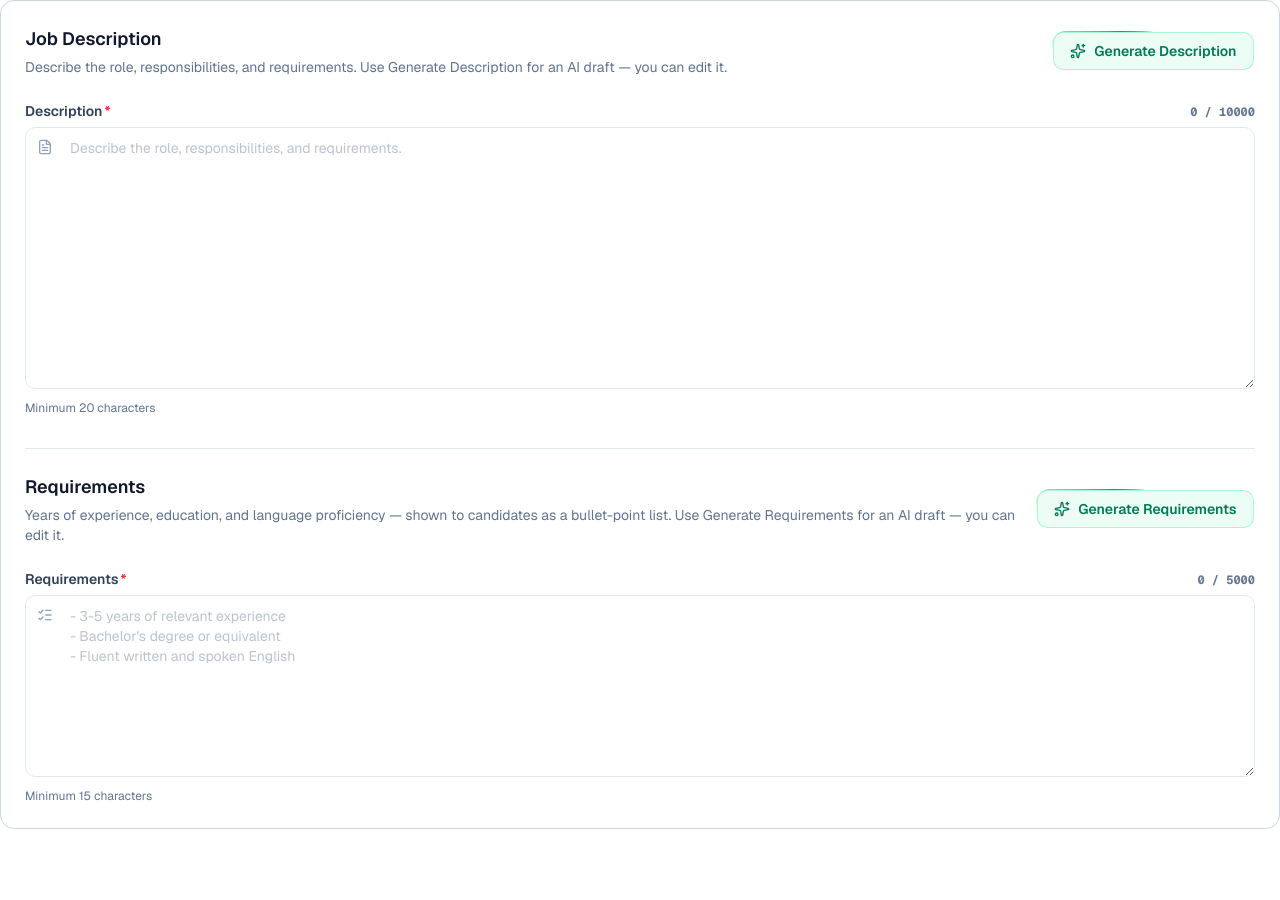
Scenario: Step5Description › switches only the description button to Regenerate after generating a description
Click the button "Generate Description" at {"x": 1153, "y": 51}, box [1052,30,1255,72]
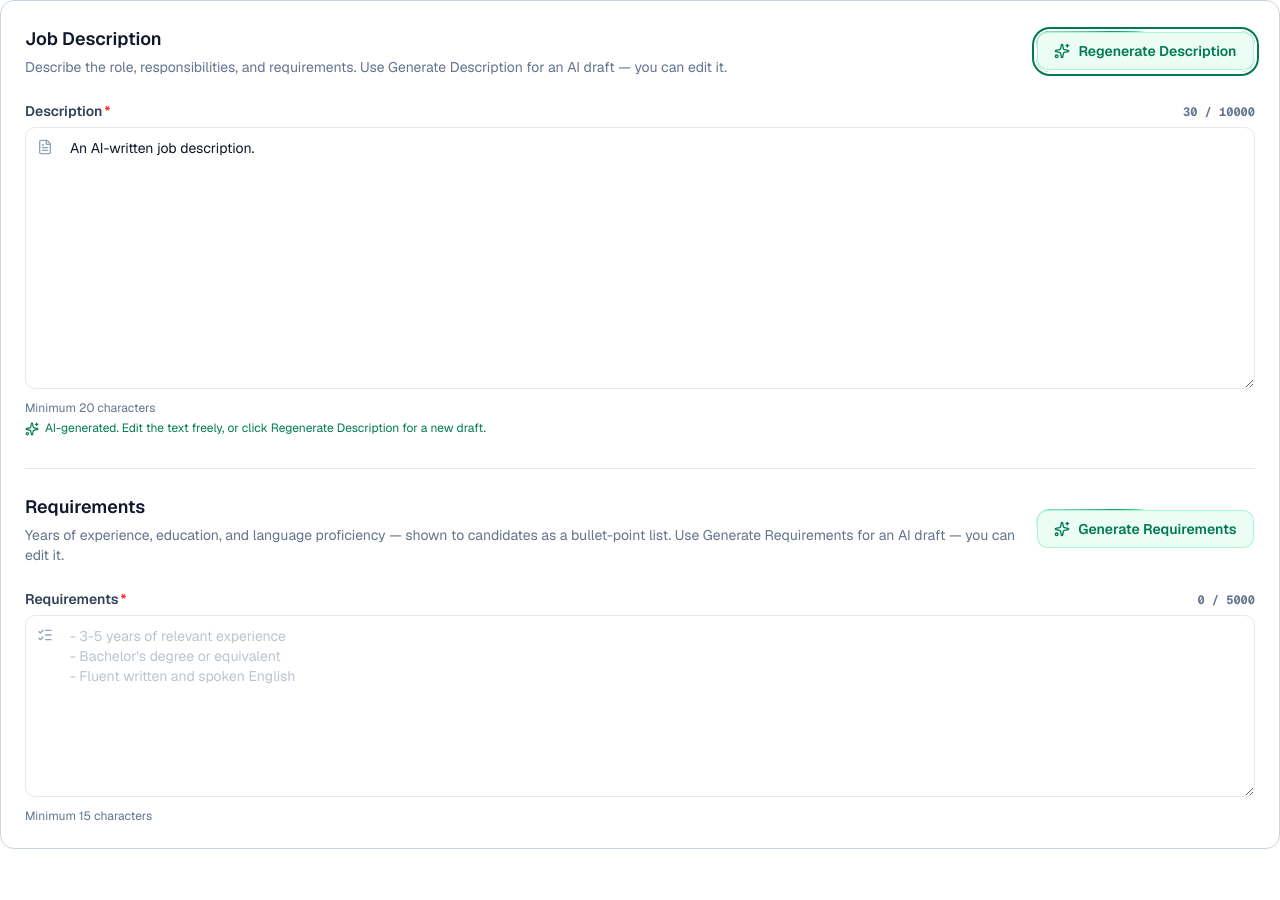
expect the button "Generate Requirements" is shown: met, box [1036,508,1255,550]
expect the button "Regenerate Description" is shown: met, box [1036,30,1255,72]
expect the text "AI-generated. Edit the text freely" is shown: met, box [45,420,486,436]
